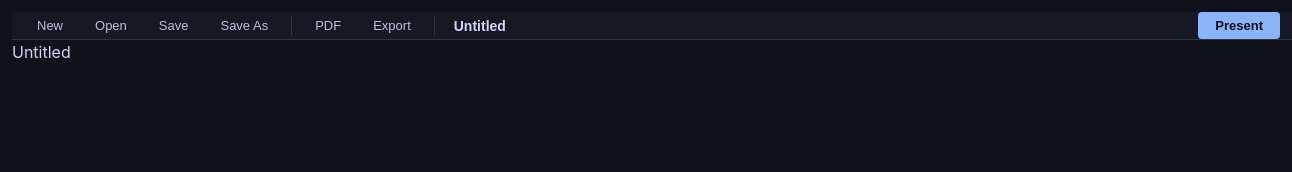
EditorToolbar › committing title on blur updates project state
Replace the text in the field with class "title-input" with "My Paper" at (552, 26), box x1=445 y1=12 x2=659 y2=38
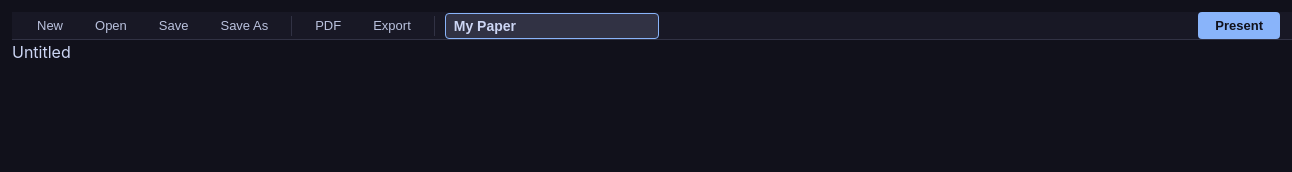
Press Tab
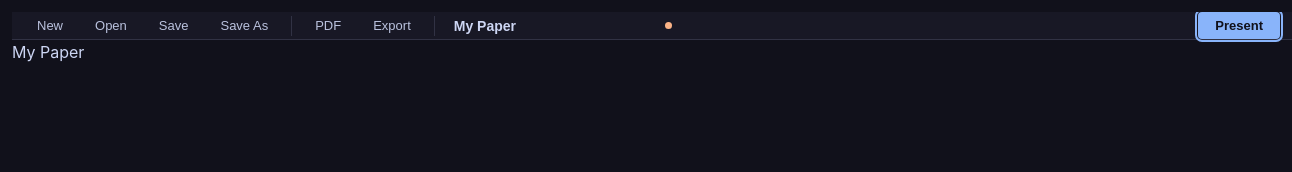
Result: the text with test id "state-title" reads "My Paper" at x1=12 y1=42 x2=84 y2=62
